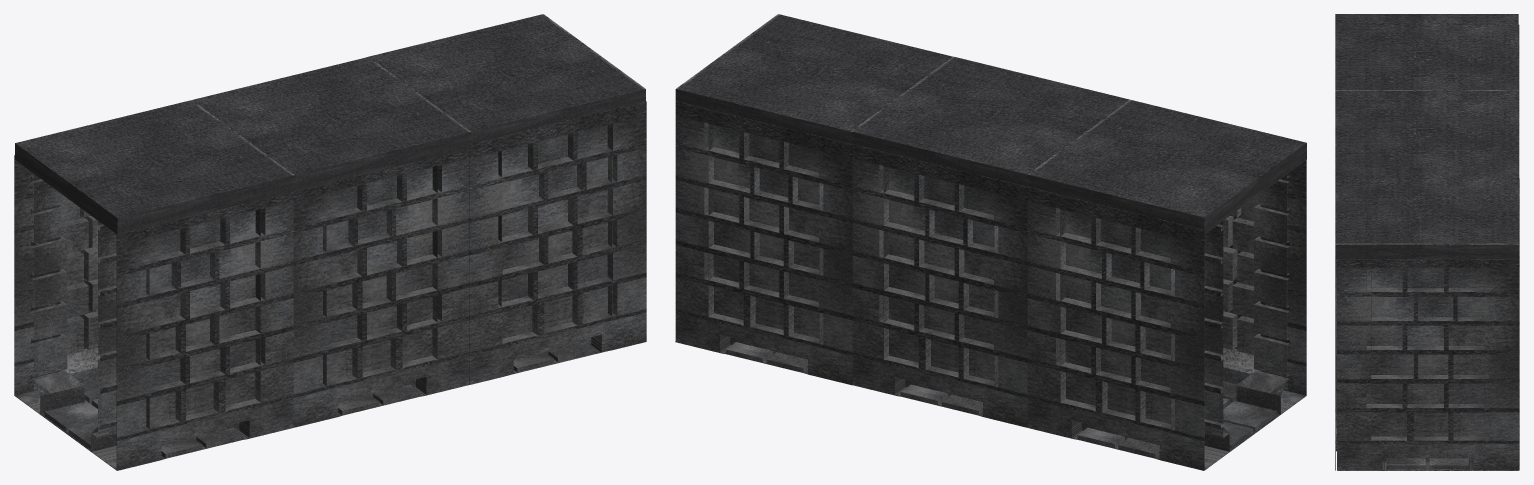
File: CuldeSac.obj
3 renders of one model, left to right at view 1: azimuth 30°, elevation 25°; view 2: azimuth 150°, elevation 25°; view 3: azimuth 270°, elevation 25°, orthographic. The views are drawn at different scales.
Parts seen in each view (by area): view 1: Sol.034_Plane.112, Sol.035_Plane.113, Mur.R.005_Plane.123, Plafond.004_Cube.166, Sol.039_Plane.120; view 2: Sol.034_Plane.112, Sol.035_Plane.113, Mur.R.004_Plane.122, Plafond.004_Cube.166, Sol.039_Plane.120; view 3: Mur.R.003_Plane.121, Plafond.004_Cube.166, Sol.035_Plane.113, Sol.034_Plane.112, Sol.039_Plane.120, Mur.R.005_Plane.123, Colonne2.R.008_Cube.163, Cube.057_Cube.165, Mur.R.004_Plane.122.
Boxes of the visible parts, bbox=[...] form: Sol.034_Plane.112: bbox=[14, 100, 294, 470]; Sol.035_Plane.113: bbox=[192, 57, 471, 427]; Mur.R.005_Plane.123: bbox=[469, 101, 646, 384]; Plafond.004_Cube.166: bbox=[367, 14, 645, 143]; Sol.039_Plane.120: bbox=[513, 342, 595, 372]; Sol.034_Plane.112: bbox=[1027, 99, 1306, 470]; Sol.035_Plane.113: bbox=[851, 56, 1129, 427]; Mur.R.004_Plane.122: bbox=[675, 101, 852, 384]; Plafond.004_Cube.166: bbox=[675, 14, 954, 144]; Sol.039_Plane.120: bbox=[675, 341, 852, 385]; Mur.R.003_Plane.121: bbox=[1337, 259, 1518, 469]; Plafond.004_Cube.166: bbox=[1335, 167, 1518, 259]; Sol.035_Plane.113: bbox=[1335, 91, 1519, 178]; Sol.034_Plane.112: bbox=[1335, 14, 1519, 101]; Sol.039_Plane.120: bbox=[1337, 458, 1519, 470]; Mur.R.005_Plane.123: bbox=[1335, 179, 1336, 470]; Colonne2.R.008_Cube.163: bbox=[1337, 260, 1382, 470]; Cube.057_Cube.165: bbox=[1473, 260, 1518, 470]; Mur.R.004_Plane.122: bbox=[1519, 178, 1519, 470].
Size of the model in its own units: 2.34 by 1.07 by 0.7904.
